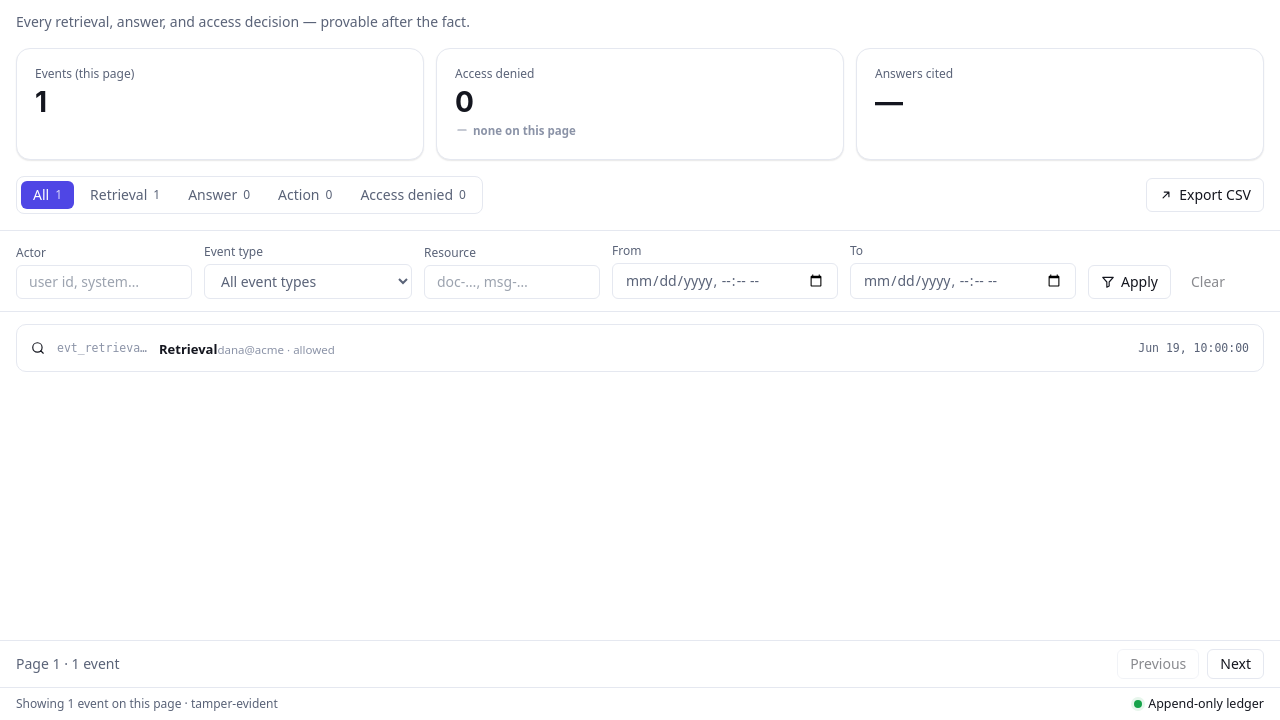
Test case: AuditPanel › advances to the next page and re-fetches with the new cursor
expect the list named "audit events" is shown: met, box x1=16 y1=324 x2=1264 y2=372
expect the text "Page 1 · 1 event" is shown: met, box x1=16 y1=654 x2=120 y2=674
Click the button "Next" at x=1236, y=664, box x1=1207 y1=649 x2=1264 y2=679
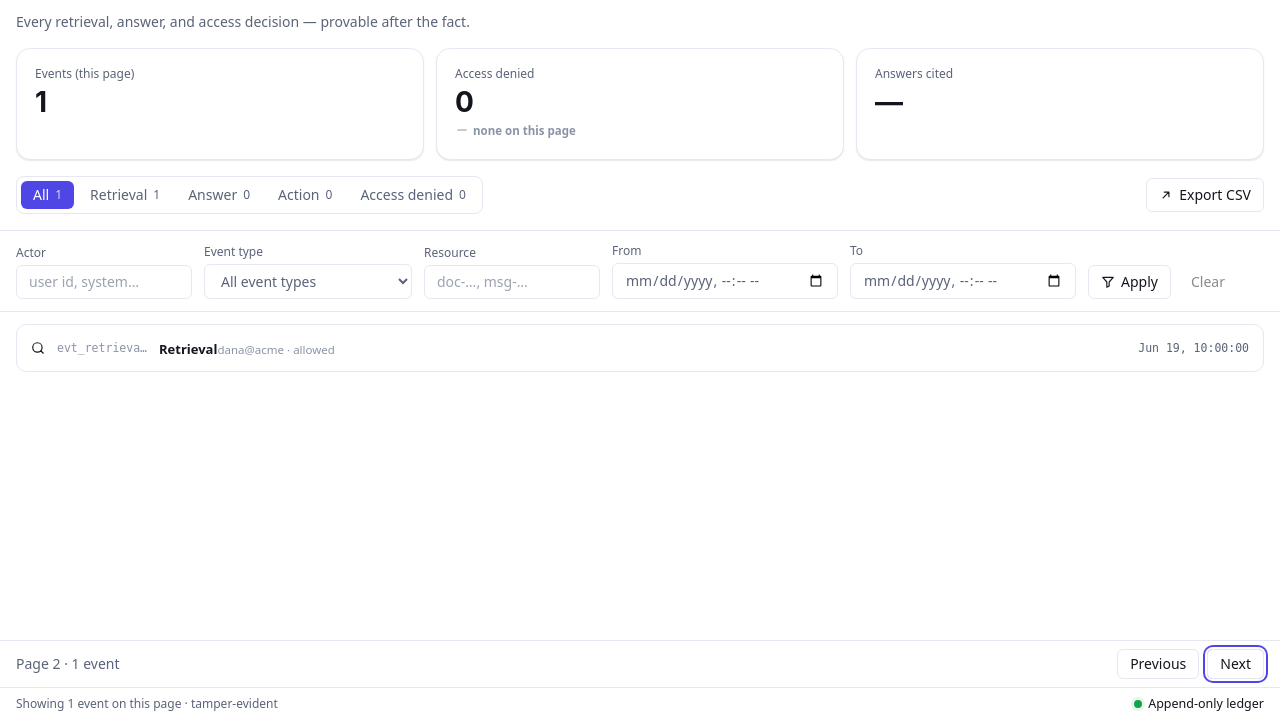
expect the text "Page 2 · 1 event" is shown: met, box x1=16 y1=654 x2=120 y2=674
expect the button "Previous" is enabled: met, box x1=1117 y1=649 x2=1199 y2=679
